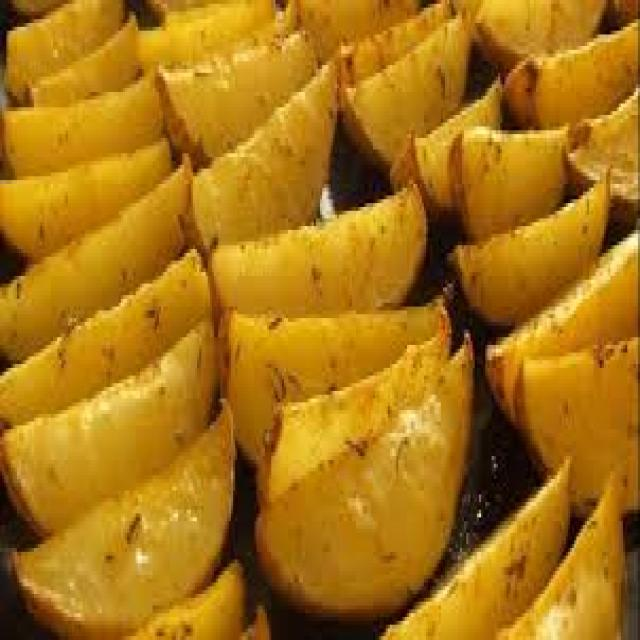Potato: (10, 5, 637, 640)
